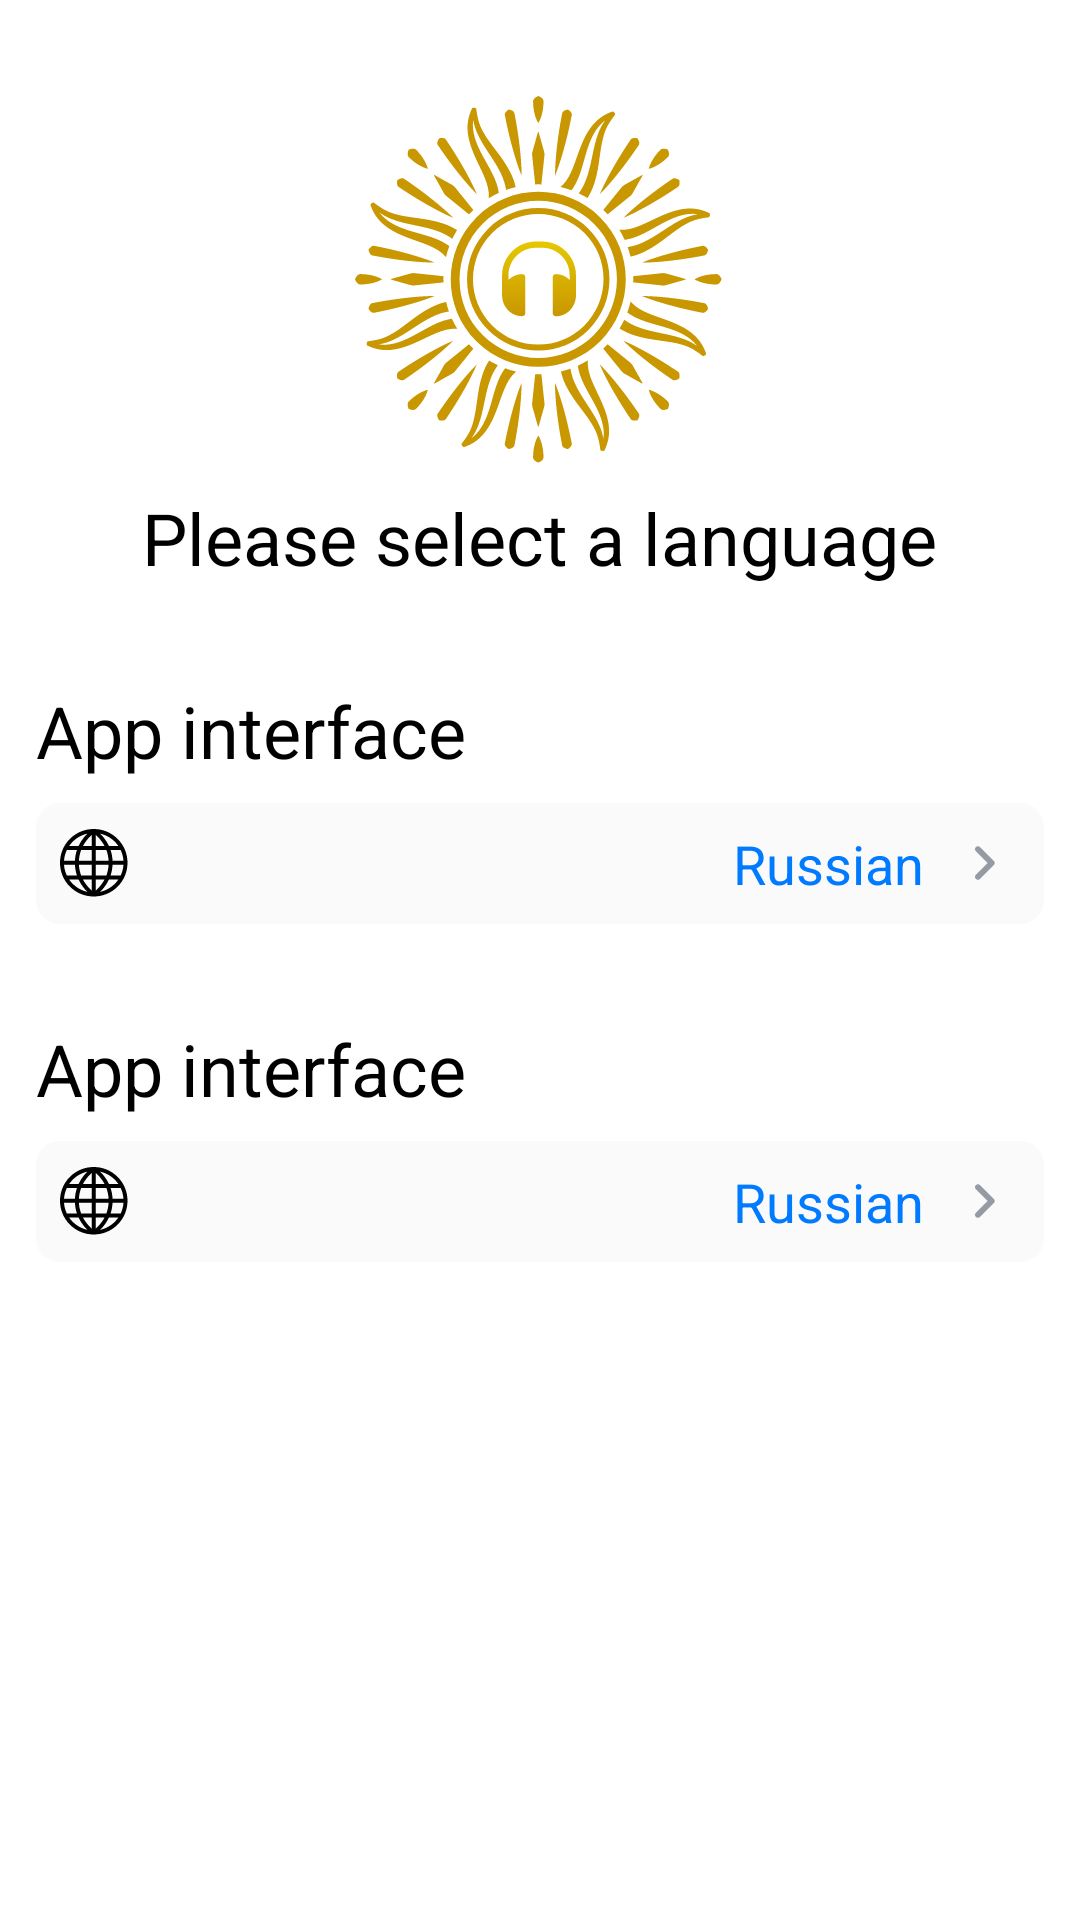

Where icons sit on this 1080 × 1920 app screen, as (x1, y1, x2, y2):
arrow right: (975, 846, 995, 880), (975, 1184, 995, 1218)
language selection: (60, 829, 128, 897), (60, 1167, 128, 1235)
